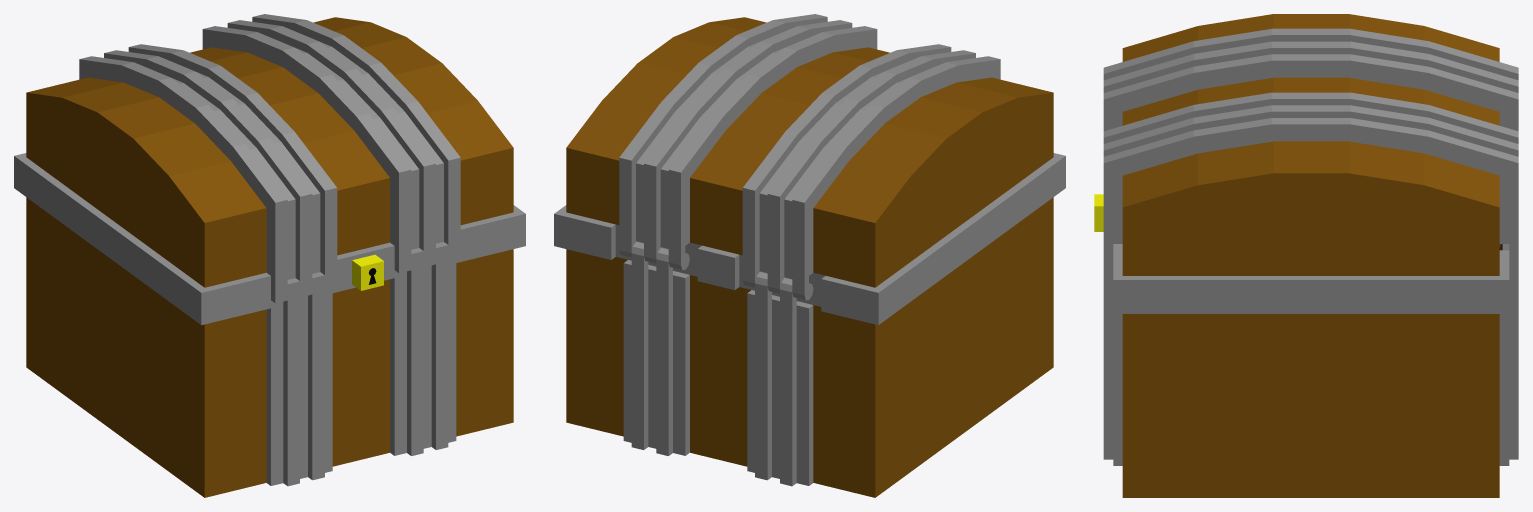
File: bau.fbx
The picture shows the model from 3 angles, left to right: view 1: azimuth 30°, elevation 25°; view 2: azimuth 150°, elevation 25°; view 3: azimuth 270°, elevation 25°; orthographic projection. The views are drawn at different scales.
Visible parts, largest first — view 1: Chest lid, Chest body; view 2: Chest lid, Chest body; view 3: Chest lid, Chest body.
Boxes of the visible parts, x1,y1,x2,y2 form: Chest lid: (14, 14, 525, 308); Chest body: (14, 172, 525, 497); Chest lid: (554, 14, 1065, 308); Chest body: (554, 172, 1065, 497); Chest lid: (1094, 14, 1518, 296); Chest body: (1103, 244, 1518, 497).
Bounding box in the file's own units: 84 × 80 × 90.
